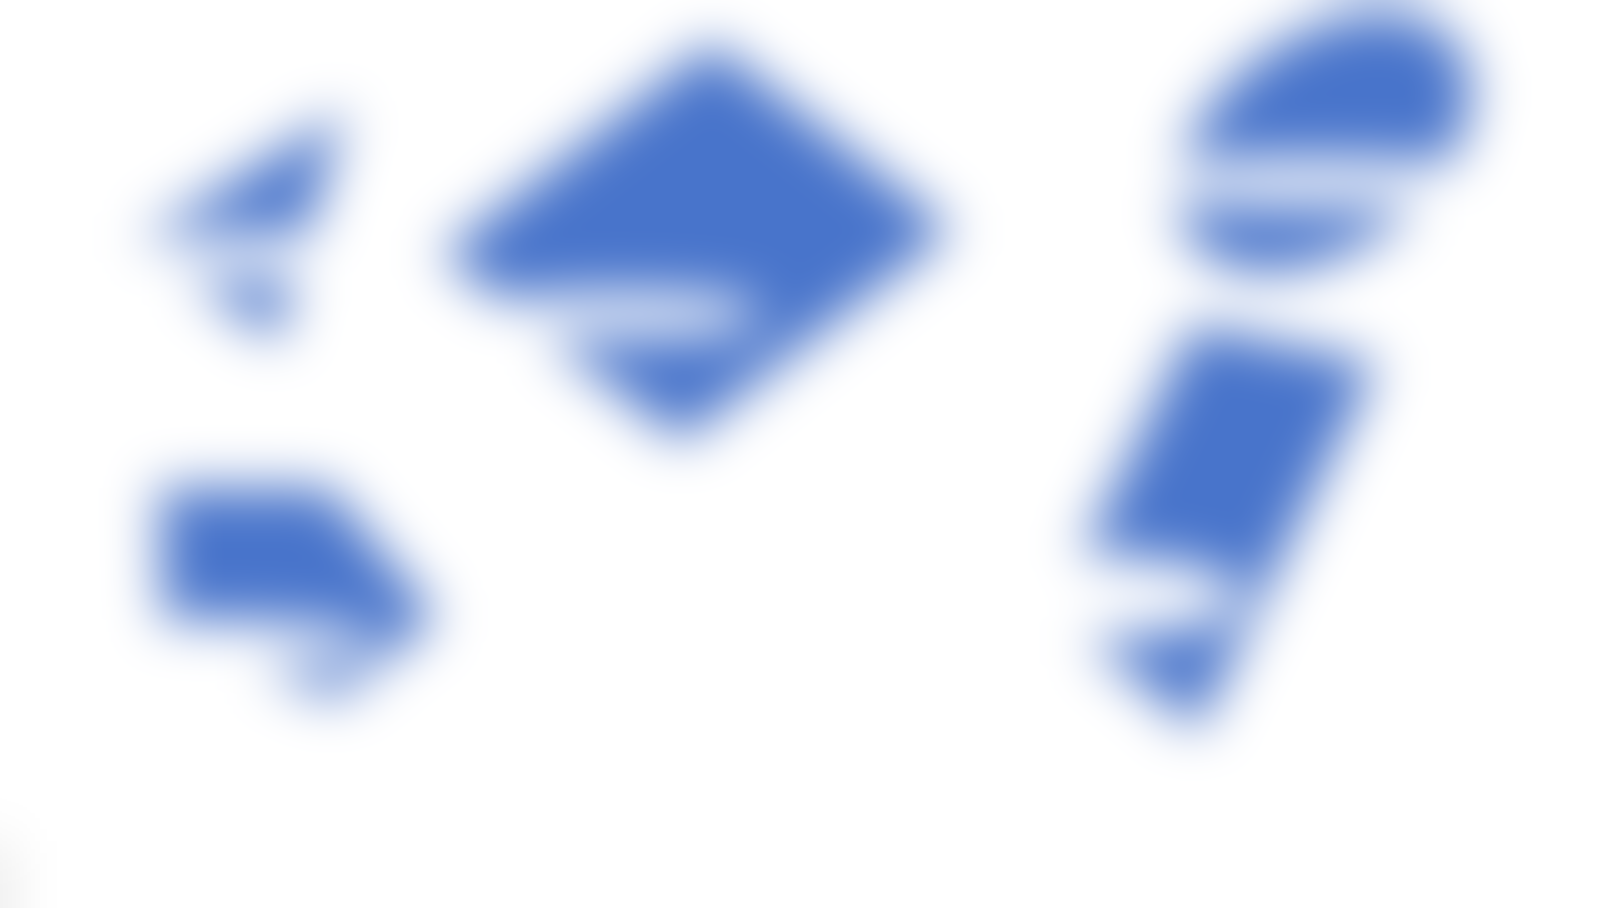circle: (1140, 4, 1521, 272)
parallelogram: (432, 47, 973, 465)
pentagon: (139, 468, 452, 734)
trapezium: (1063, 312, 1424, 766)
triangle: (151, 99, 371, 352)
